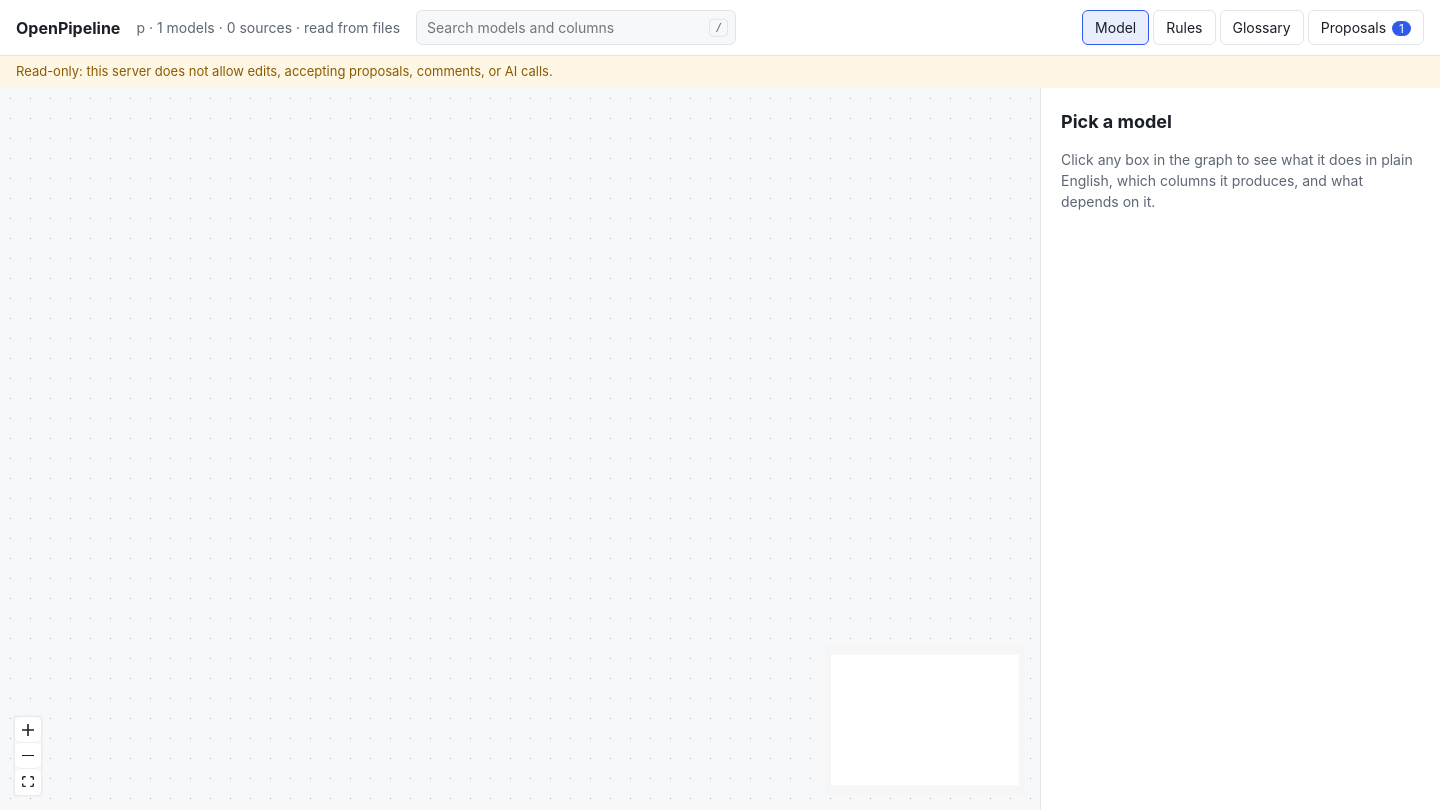
Scenario: write modes in the app › hides accept, reject and comments with a note in read-only mode
Expected: the text "Read-only: this server does not allow edits" is shown, [16,63,553,79]
Click the button "Proposals1". click: [1366, 28]
box: [1308,10,1424,45]
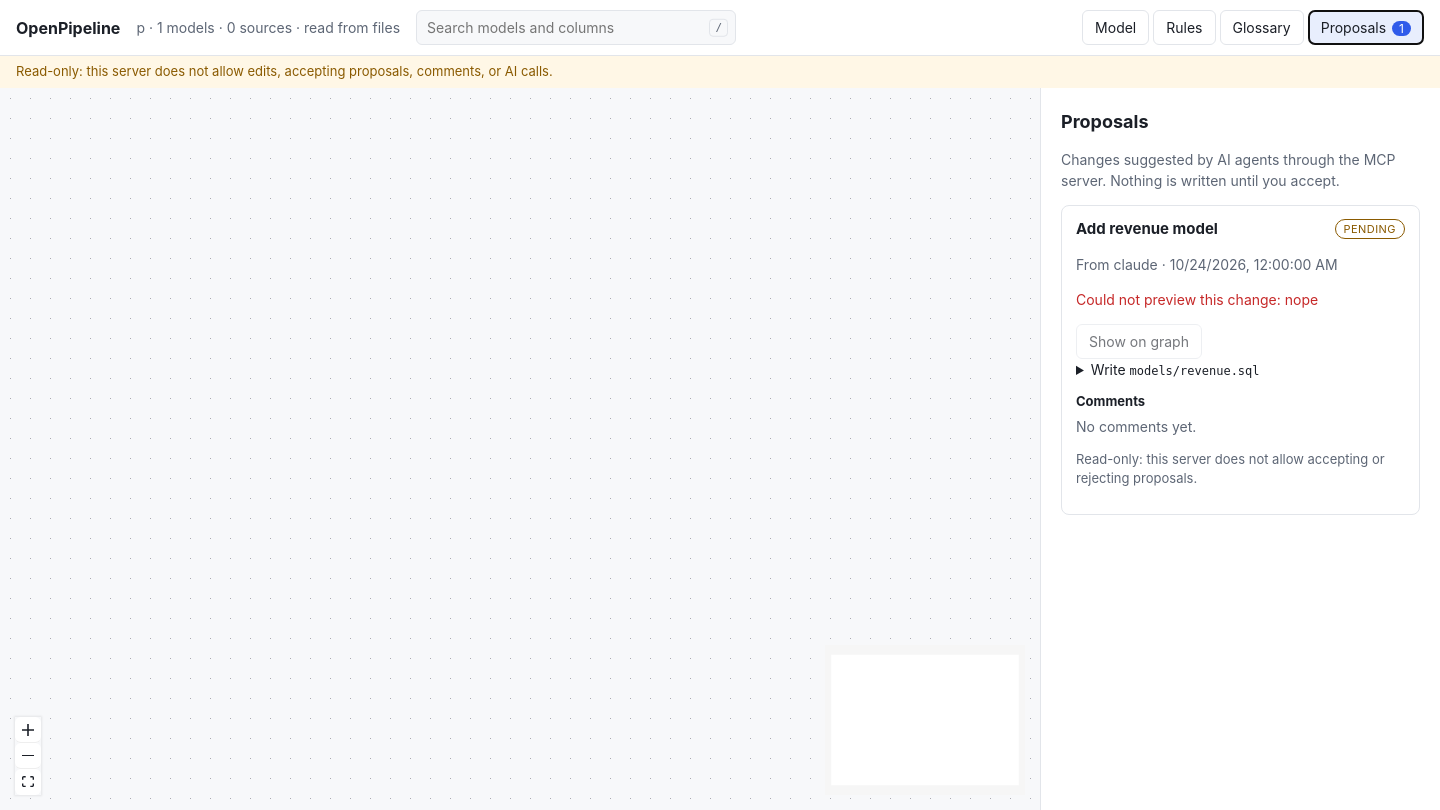
Now the heading "Add revenue model" is shown, box [1076,218,1218,240]
Now the text "does not allow accepting or rejecting" is shown, box [1076,450,1385,486]
